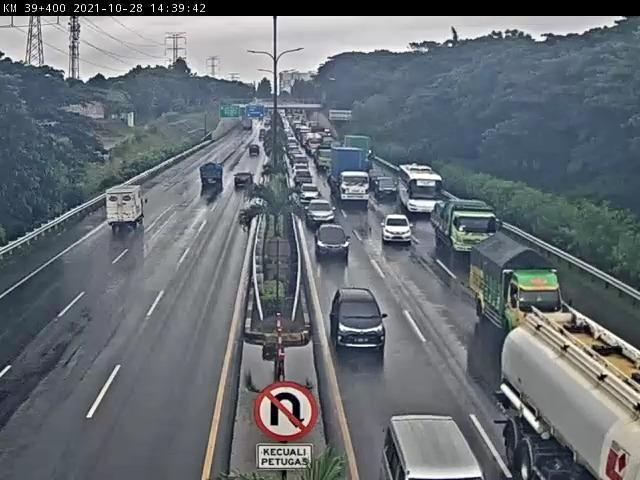bus: (399, 165, 439, 214)
car: (325, 278, 383, 338), (312, 222, 351, 258), (380, 217, 412, 243), (305, 197, 333, 226), (226, 178, 253, 198), (376, 174, 399, 196), (298, 178, 321, 198), (243, 149, 260, 165)
truck: (469, 233, 567, 339), (430, 197, 497, 250), (91, 188, 140, 242), (330, 144, 369, 202), (197, 165, 222, 194)
